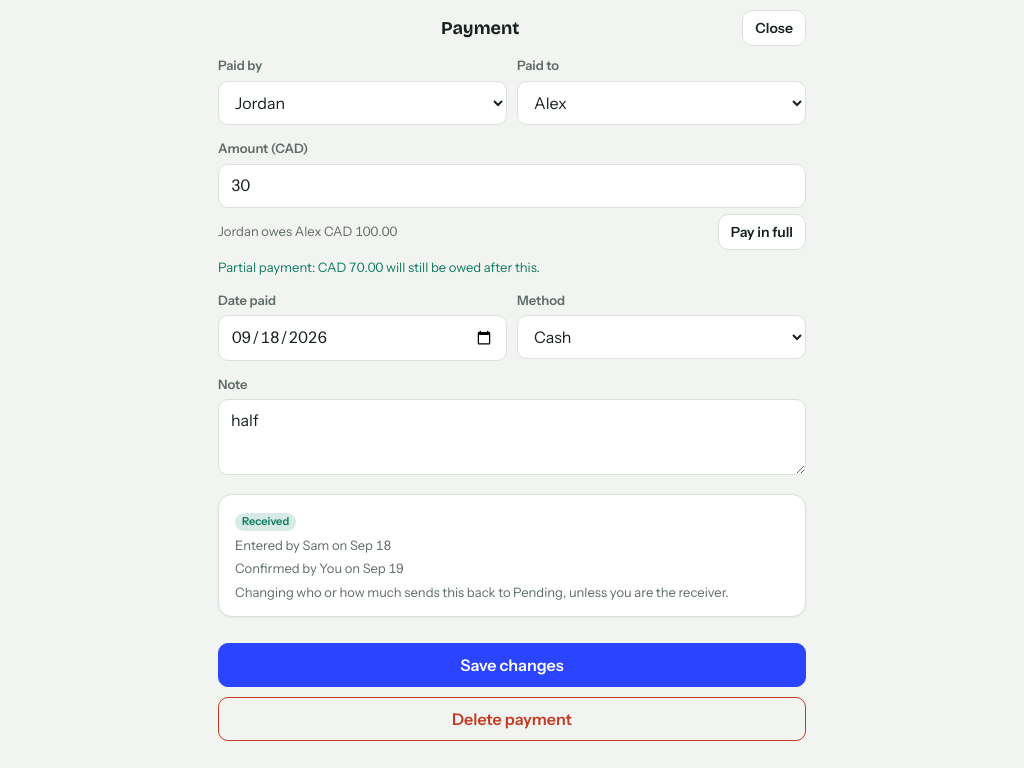
editing and deleting a payment › warns that deleting a confirmed payment raises balances again
Click the button "Delete payment" at (512, 719), box 218,697 -> 806,741
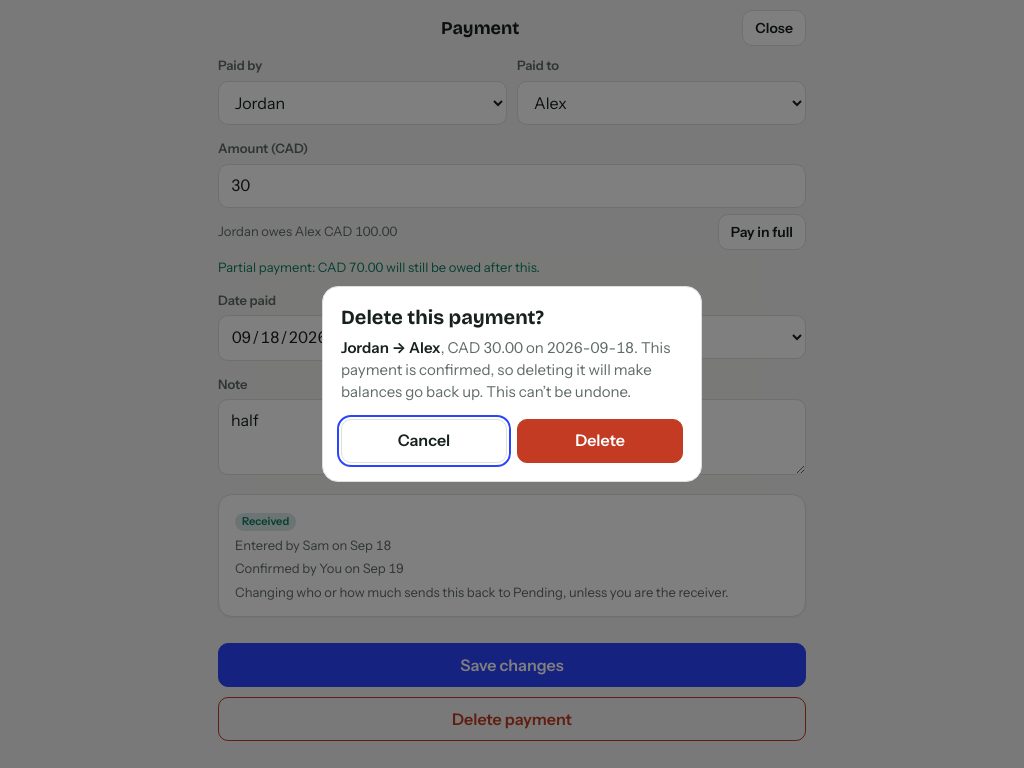
Now the dialog shows "balances go back up", box 341,338 -> 670,401
